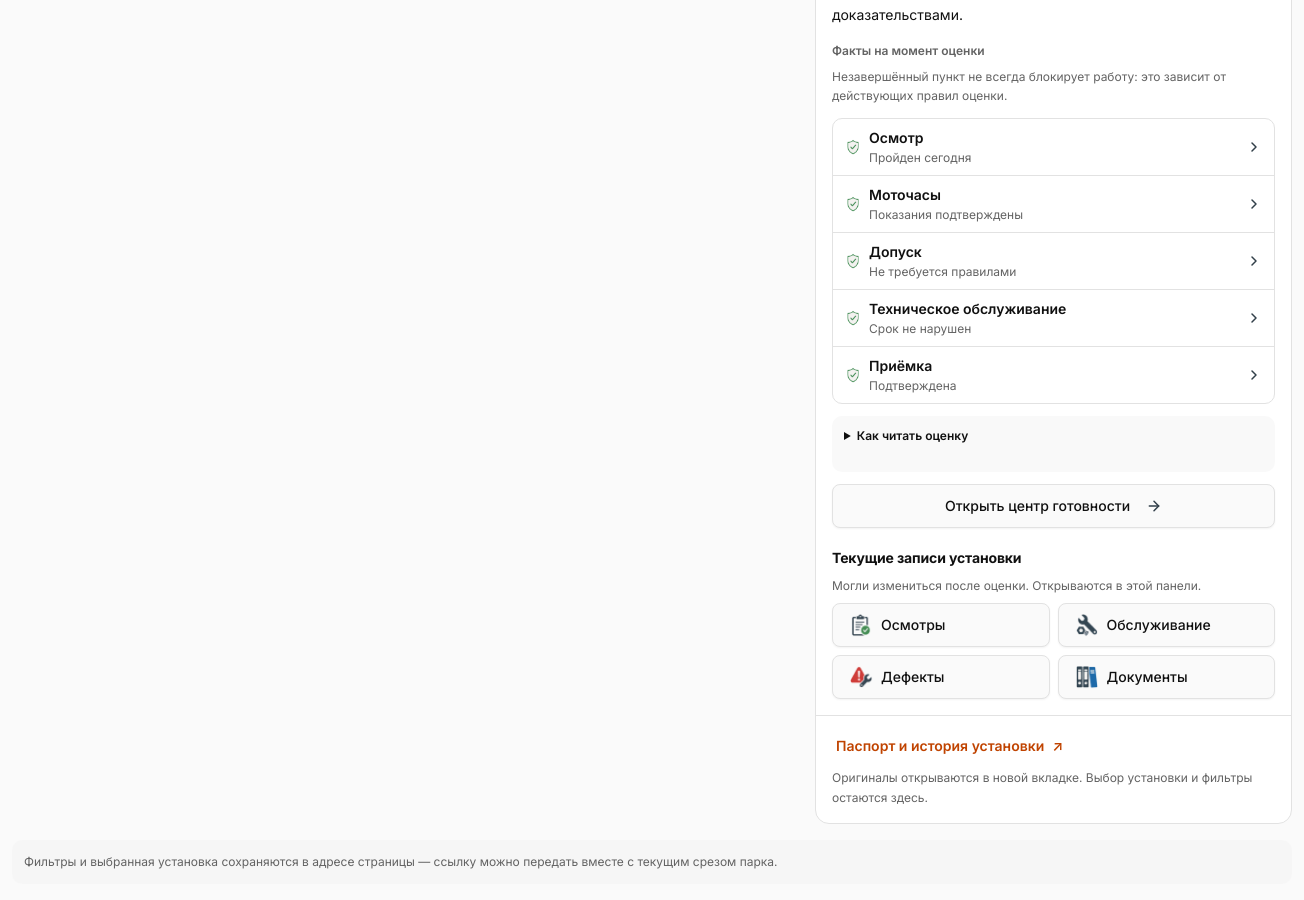
Test: Fleet evidence interactions › shows empty documents inside the selected-machine panel without navigation
(page scrolled)
Click the button "Документы".
click(1166, 677)  # box [1058,655,1275,699]
(page scrolled)
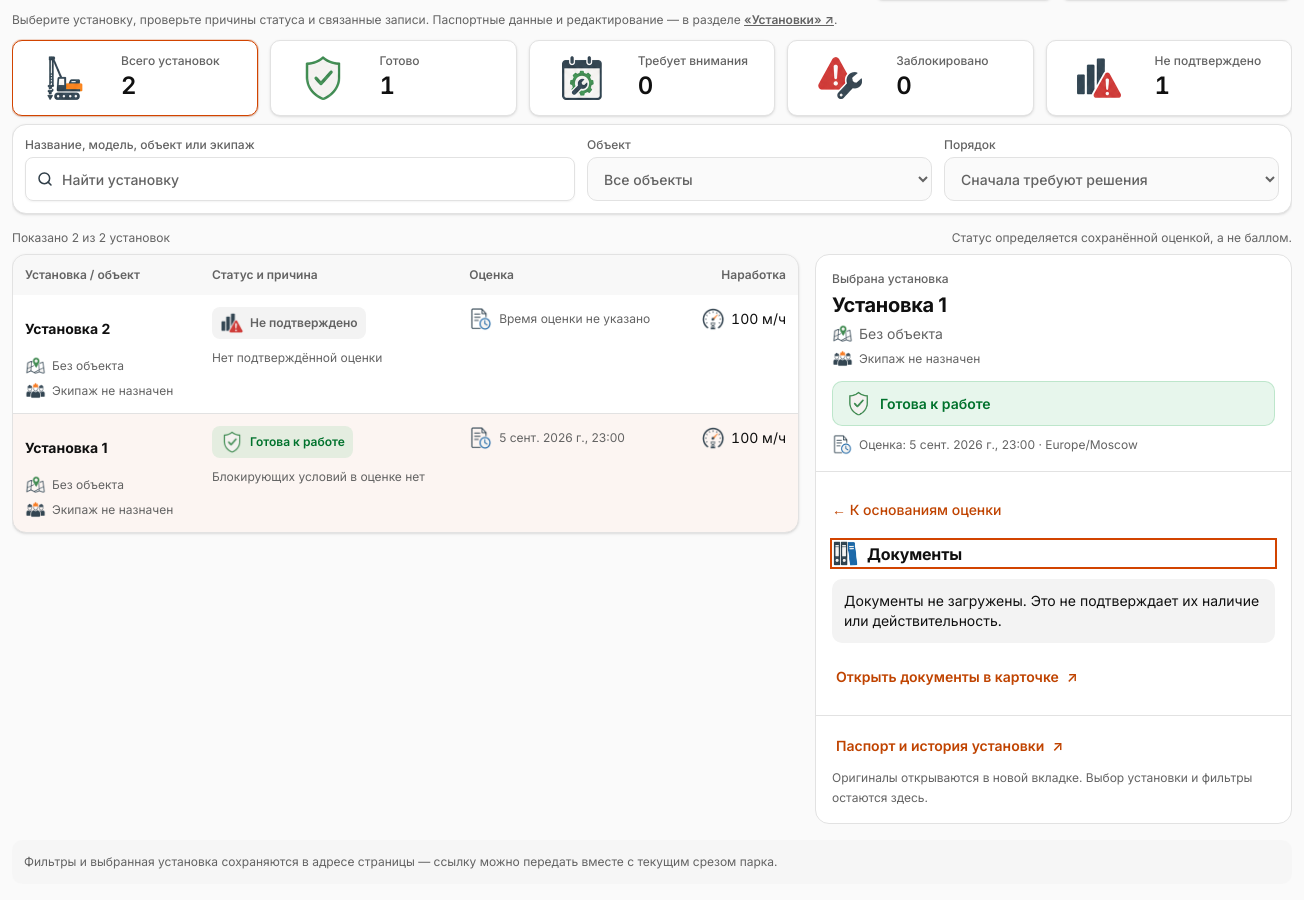
Check: the text "Документы не загружены" is shown, box [844,592,1259,629]
